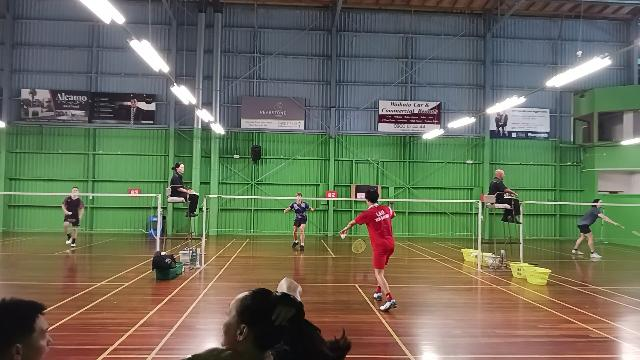Shuttlecock: (337, 230, 351, 240)
